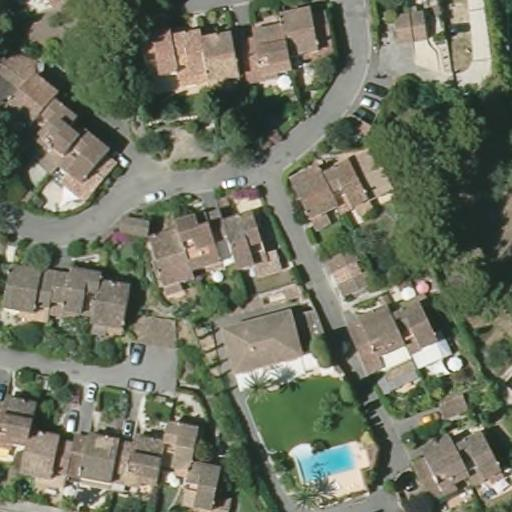pool: (285, 436, 368, 476)
